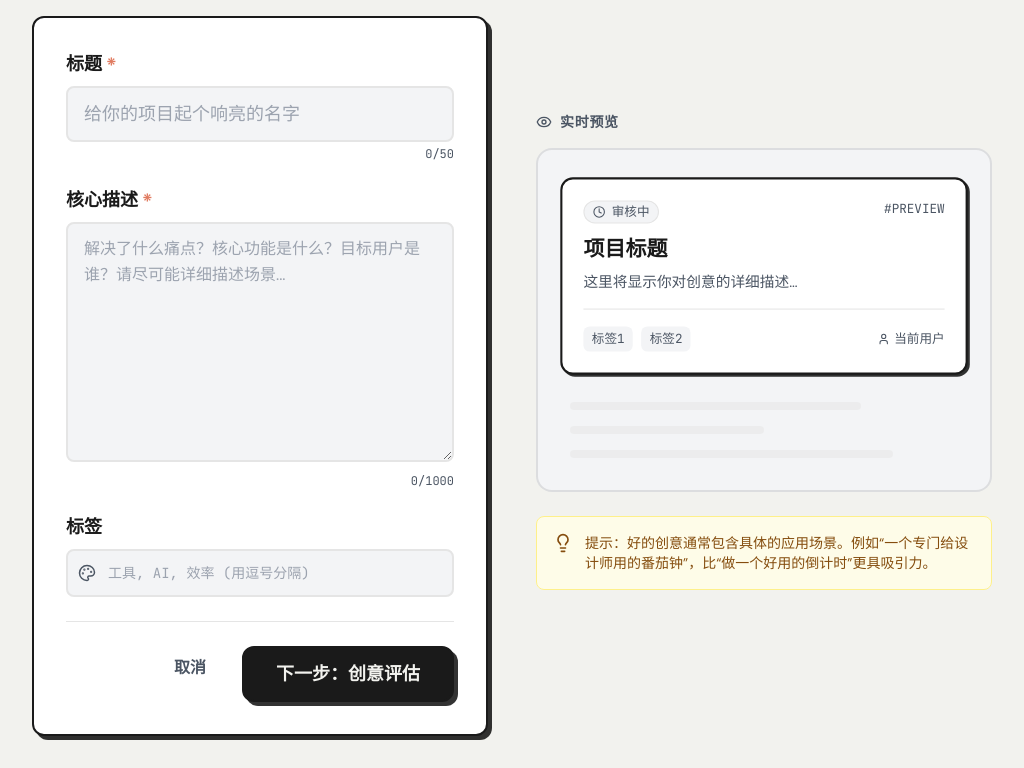
Test case: Submit Page (3-step) › 必填校验：标题/描述为空时显示错误
(page scrolled)
Click the button "下一步：创意评估" at (348, 674), box [242, 646, 454, 702]
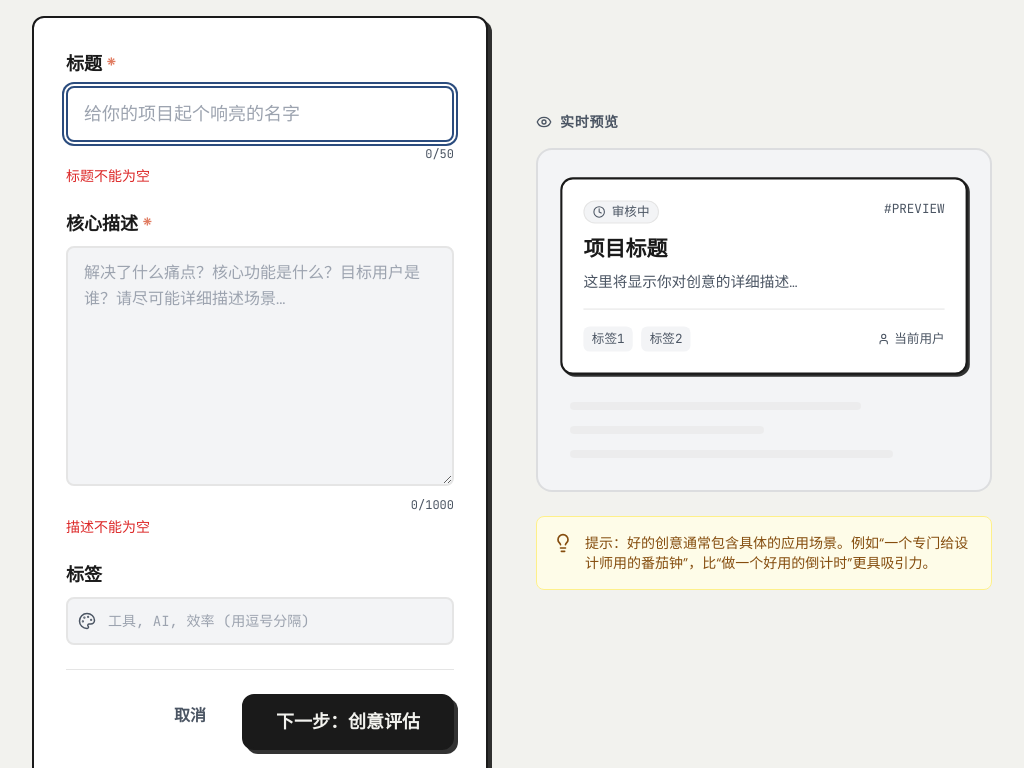
expect the text "标题不能为空" is shown: met, box [66, 167, 150, 185]
expect the text "描述不能为空" is shown: met, box [66, 518, 150, 536]
